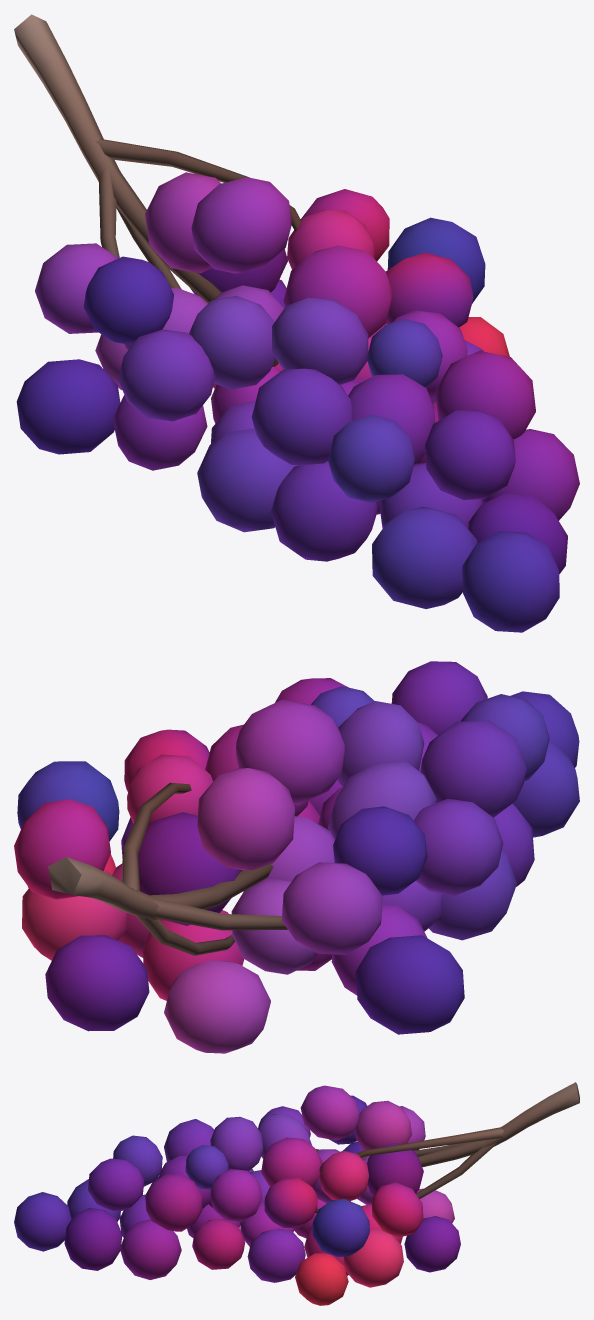
The model's file is vinograd_002.fbx.
3 views of the same model, one above another, from view 1: azimuth 30°, elevation 25°; view 2: azimuth 150°, elevation 25°; view 3: azimuth 270°, elevation 25° (orthographic). The views are drawn at different scales.
Parts seen in each view (by area): view 1: vinograd_002; view 2: vinograd_002; view 3: vinograd_002.
Boxes of the visible parts, bbox=[...] form: vinograd_002: bbox=[14, 14, 579, 632]; vinograd_002: bbox=[14, 661, 579, 1053]; vinograd_002: bbox=[14, 1082, 579, 1305].
Bounding box in the file's own units: 11.79 × 22.55 × 7.26.
